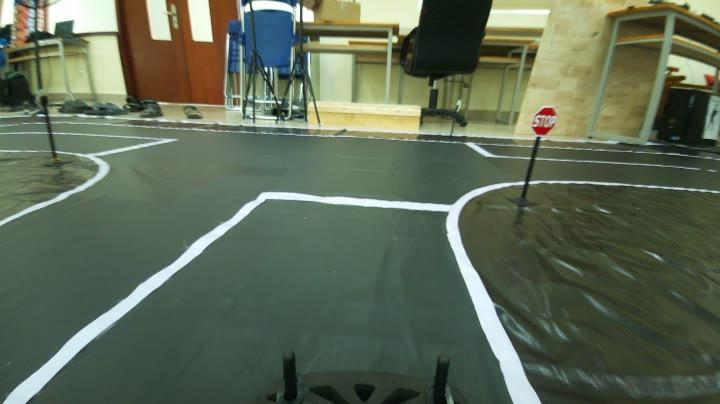stop: (528, 104, 560, 139)
